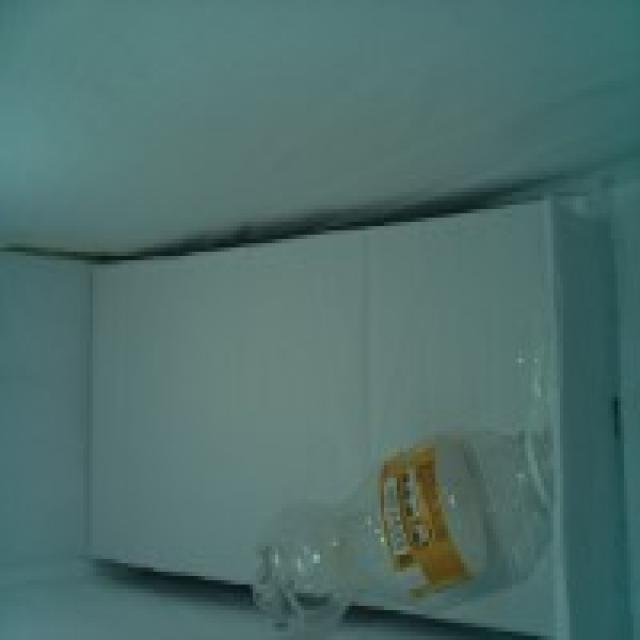Anorganik: (246, 409, 559, 640)
